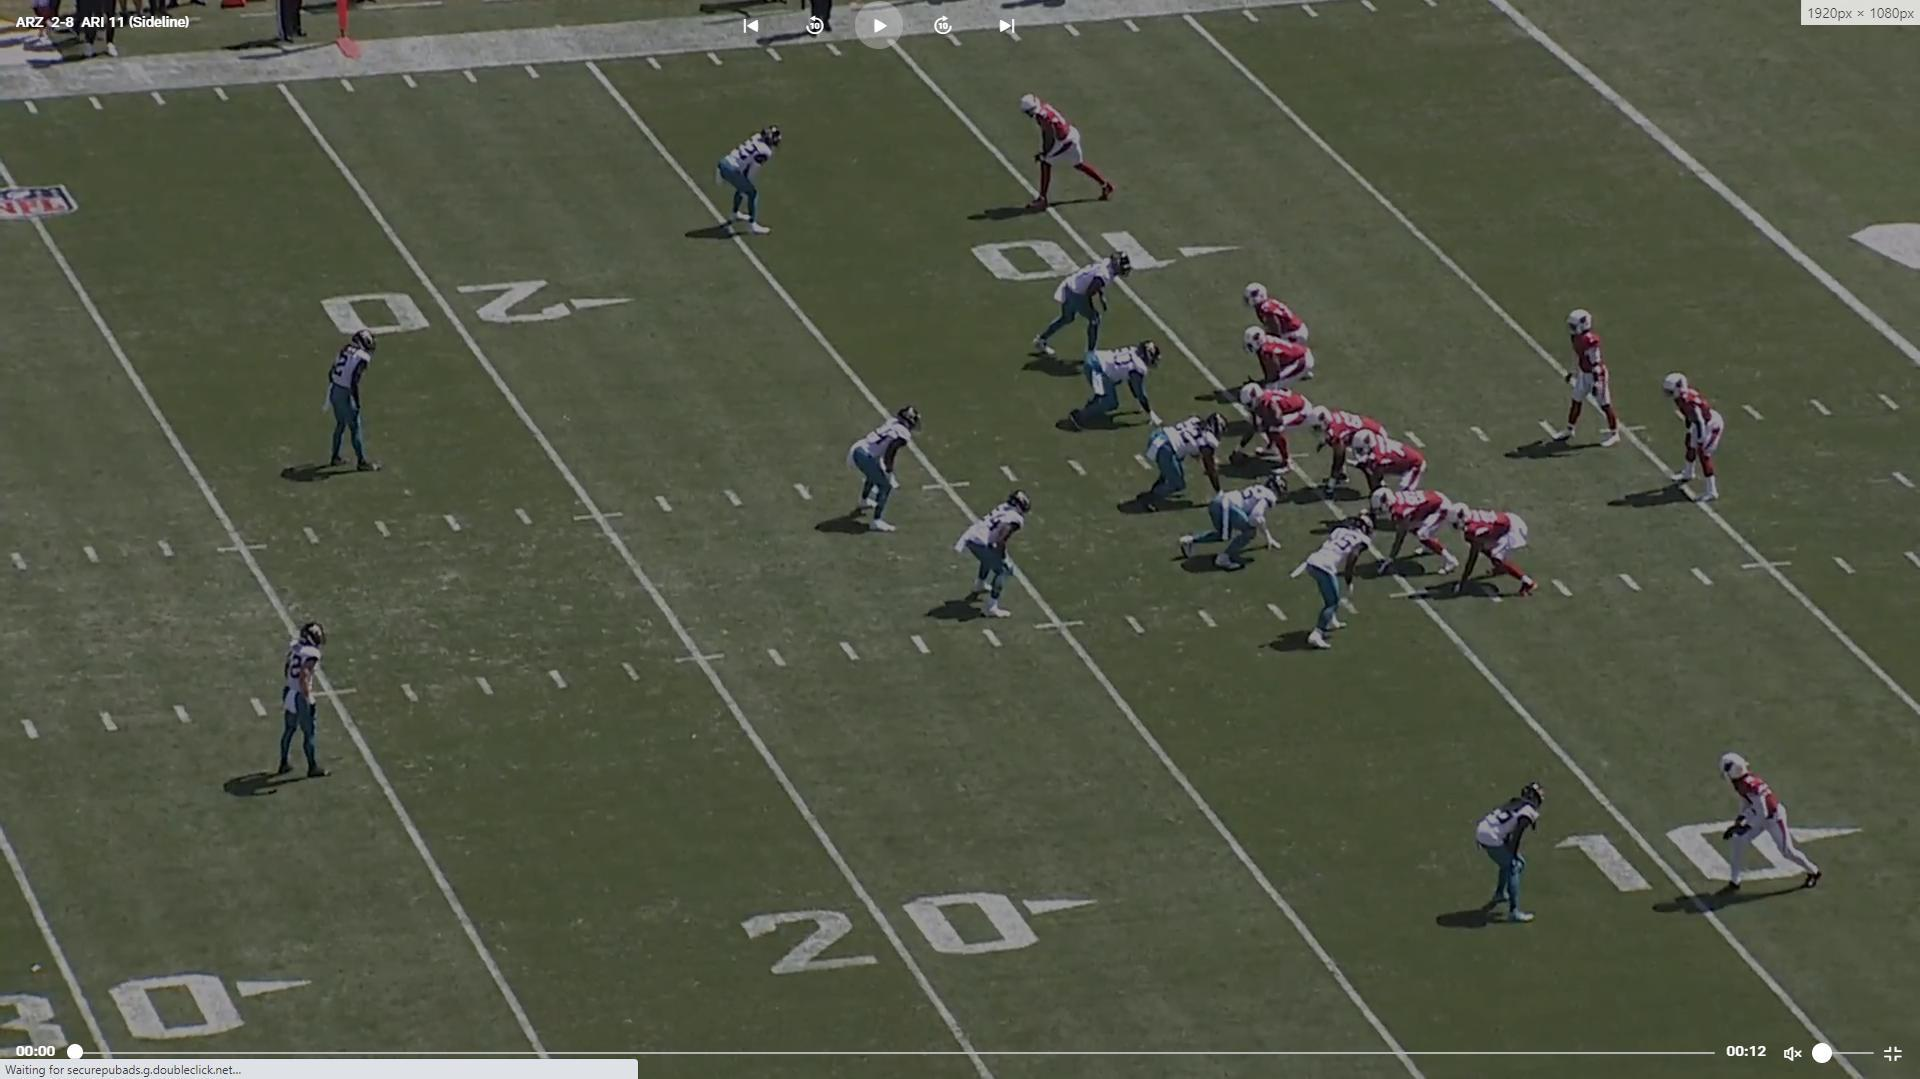defense: (260, 612, 332, 790), (1030, 254, 1129, 373), (1475, 777, 1551, 927), (1292, 519, 1373, 657), (1175, 474, 1287, 572), (1123, 415, 1223, 521), (955, 490, 1031, 624), (1057, 337, 1163, 431), (320, 323, 383, 479), (847, 406, 918, 543), (714, 121, 786, 246)
oline: (1314, 402, 1393, 500), (1236, 381, 1317, 472), (1242, 278, 1315, 358), (1352, 430, 1427, 504), (1242, 326, 1318, 390)
qb: (1557, 300, 1626, 450)
skill: (1704, 748, 1821, 891), (1016, 87, 1122, 210), (1662, 370, 1730, 507), (1445, 502, 1535, 600), (1378, 489, 1459, 581)
